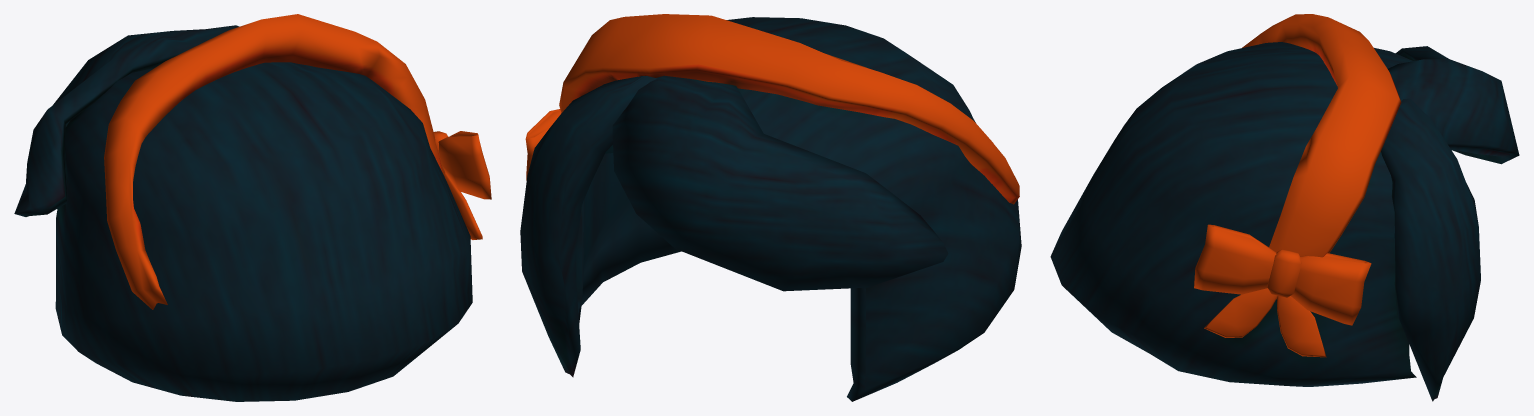
The picture shows the model from 3 angles, left to right: view 1: azimuth 30°, elevation 25°; view 2: azimuth 150°, elevation 25°; view 3: azimuth 270°, elevation 25°; orthographic projection. The views are drawn at different scales.
Parts seen in each view (by area): view 1: geometry_0; view 2: geometry_0; view 3: geometry_0.
Part boxes in pixels (left/top/right/bottom): geometry_0: left=14, top=14, right=491, bottom=401; geometry_0: left=520, top=14, right=1021, bottom=401; geometry_0: left=1050, top=14, right=1519, bottom=401.
Size of the model in its own units: 1.53 by 1.16 by 1.6.
Materials: 1 (1 with a texture image).
